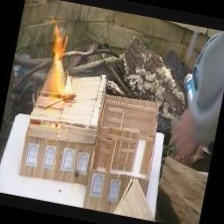fire: (36, 32, 77, 101)
